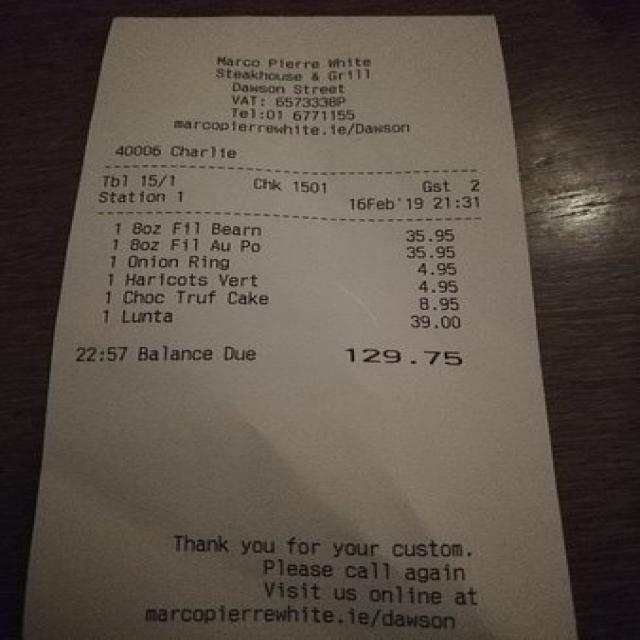TotalPrice: (92, 342, 497, 381)
